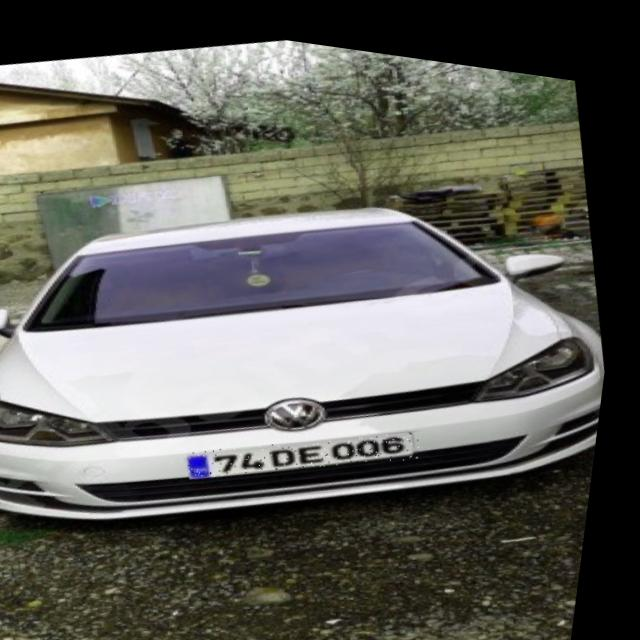license_plate: (195, 393, 433, 496)
